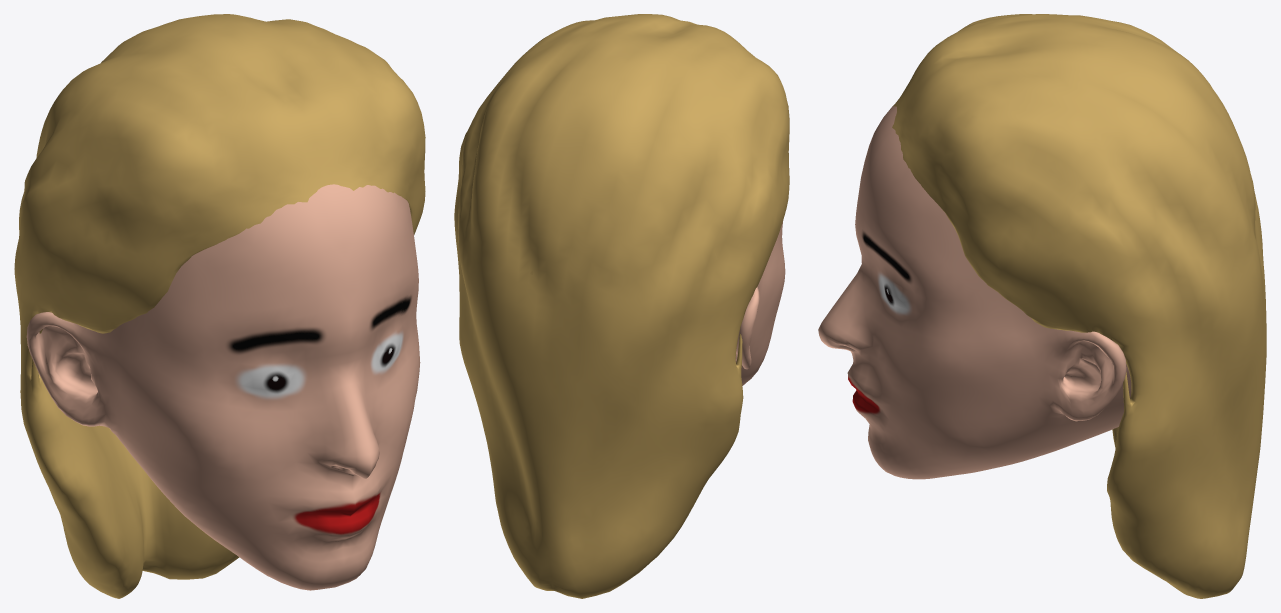
File: female.fbx
3 views of the same model, side by side, from view 1: azimuth 30°, elevation 25°; view 2: azimuth 150°, elevation 25°; view 3: azimuth 270°, elevation 25° (orthographic). The views are drawn at different scales.
Parts seen in each view (by area): view 1: Female_hair, Female_head; view 2: Female_hair, Female_head; view 3: Female_hair, Female_head.
Part boxes in pixels (x1,y1,x2,y2): Female_hair: (14,14,425,598); Female_head: (26,184,420,590); Female_hair: (454,14,789,598); Female_head: (735,220,785,385); Female_hair: (892,14,1266,598); Female_head: (818,105,1131,479).
Bounding box in the file's own units: 13.08 × 20.69 × 15.39.
2 materials, 2 textured.
